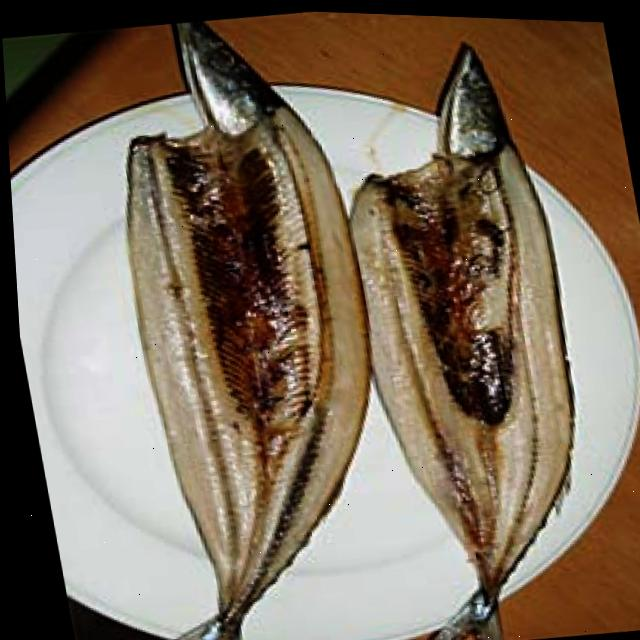熟制海鲜: (21, 1, 621, 640)
